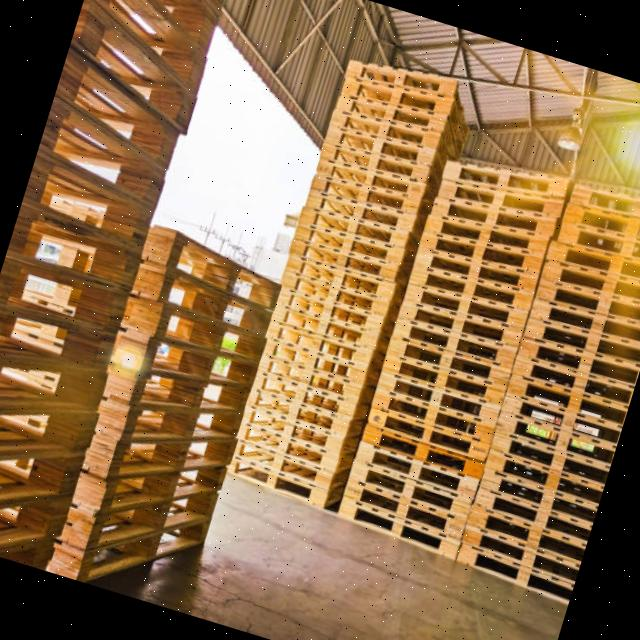Wooden-Pallets: (160, 232, 282, 319), (345, 452, 466, 527), (337, 49, 463, 108), (388, 351, 500, 413), (440, 155, 573, 201)
